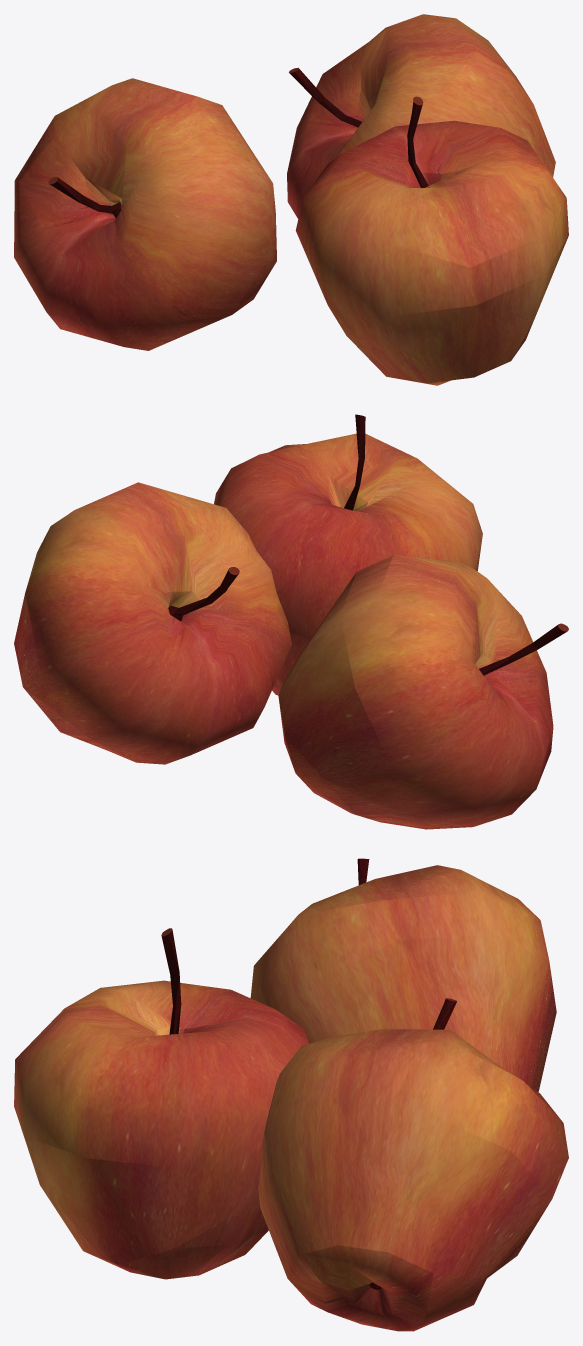
Rendered from apples.gltf.
The picture shows the model from 3 angles, top to bottom: view 1: azimuth 30°, elevation 25°; view 2: azimuth 150°, elevation 25°; view 3: azimuth 270°, elevation 25°; orthographic projection. The views are drawn at different scales.
Parts seen in each view (by area): view 1: polySurface24, polySurface26, polySurface27; view 2: polySurface24, polySurface27, polySurface26; view 3: polySurface27, polySurface26, polySurface24.
Boxes of the visible parts, left/top/right/bottom form: polySurface24: left=14, top=78, right=276, bottom=350; polySurface26: left=295, top=96, right=568, bottom=385; polySurface27: left=287, top=14, right=555, bottom=218; polySurface24: left=278, top=555, right=568, bottom=829; polySurface27: left=14, top=482, right=291, bottom=764; polySurface26: left=214, top=414, right=482, bottom=695; polySurface27: left=258, top=998, right=568, bottom=1331; polySurface26: left=14, top=928, right=308, bottom=1279; polySurface24: left=250, top=858, right=556, bottom=1091.
Bounding box in the file's own units: 0.0605 × 0.0314 × 0.0495.
